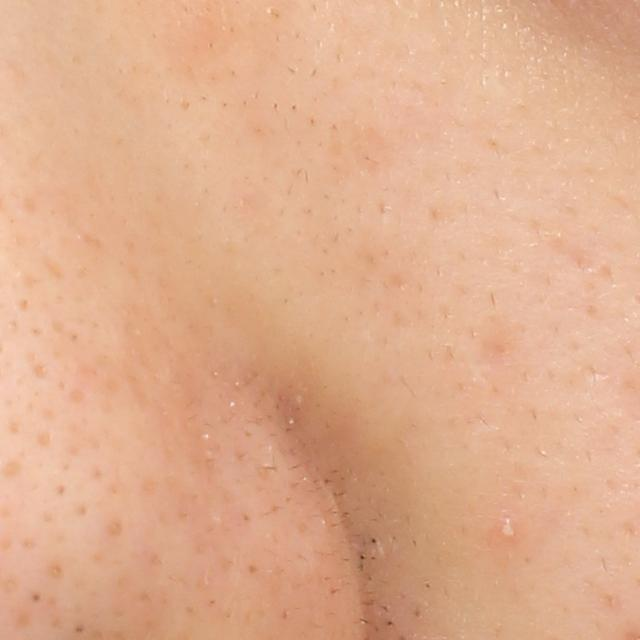pustule: (484, 510, 528, 544)
